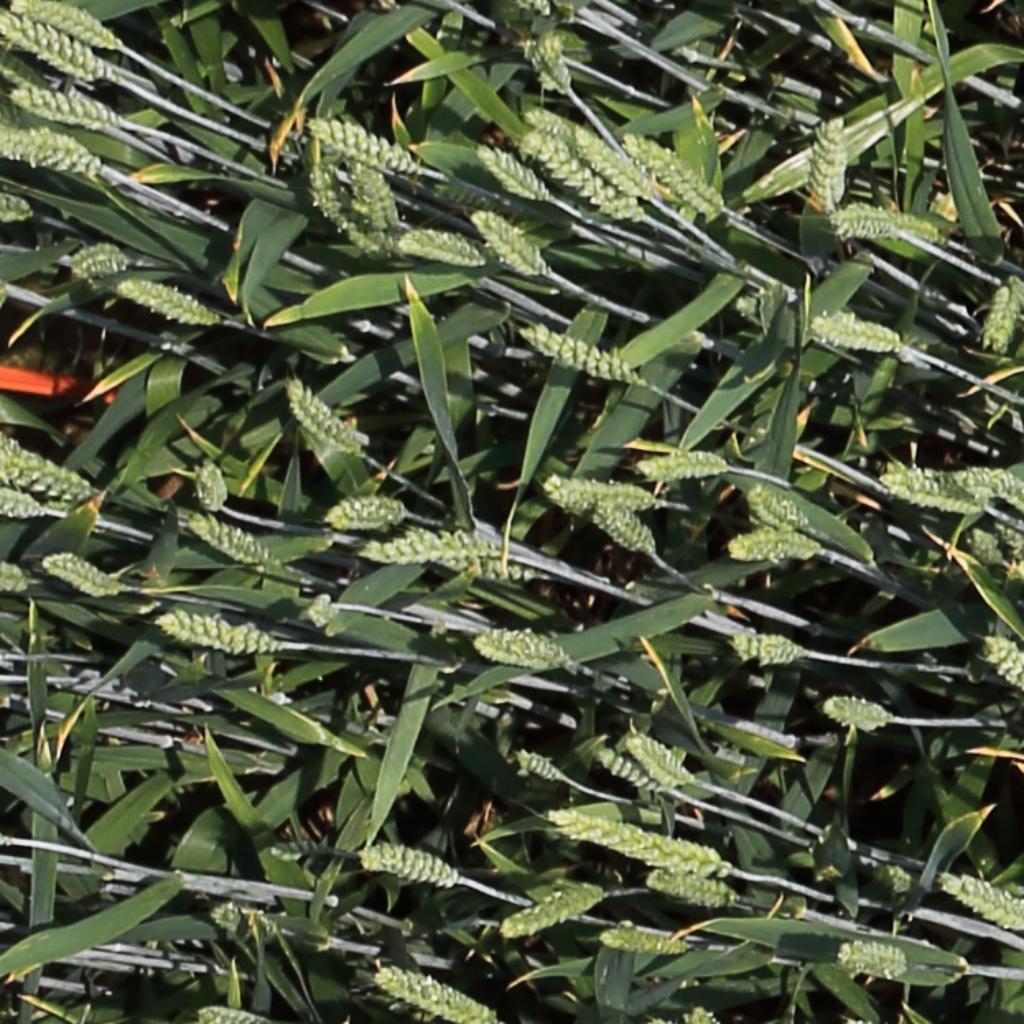0-0: (548, 808, 731, 871), (521, 128, 632, 218), (304, 161, 391, 262), (625, 129, 719, 212), (518, 324, 638, 382), (2, 16, 109, 79), (372, 969, 497, 1022), (304, 116, 417, 172), (281, 378, 360, 457), (570, 122, 651, 195), (158, 605, 273, 652), (468, 207, 546, 275), (498, 886, 602, 936), (360, 529, 510, 563), (15, 0, 123, 47), (1, 442, 88, 499), (111, 277, 217, 323), (185, 516, 277, 569), (6, 84, 122, 126), (880, 469, 985, 513), (937, 876, 1024, 928), (346, 152, 404, 230), (473, 141, 547, 202), (4, 126, 99, 173), (357, 841, 456, 886), (831, 204, 942, 240), (804, 309, 904, 348), (475, 624, 567, 666), (514, 31, 572, 95), (745, 480, 809, 535), (623, 737, 692, 787), (589, 503, 655, 555), (981, 273, 1022, 356), (539, 476, 652, 506), (813, 109, 843, 218), (592, 749, 659, 797), (643, 873, 735, 907), (39, 555, 116, 595), (983, 637, 1024, 711), (957, 472, 1024, 517), (393, 233, 487, 264), (320, 496, 401, 530), (634, 452, 728, 479), (840, 936, 906, 973), (521, 106, 585, 144), (820, 695, 889, 729), (729, 533, 821, 558), (195, 450, 228, 519), (596, 931, 688, 953), (68, 240, 125, 274), (731, 638, 805, 663), (512, 750, 563, 785), (965, 525, 1006, 566), (995, 522, 1024, 578), (193, 1004, 272, 1024), (304, 589, 339, 631), (207, 898, 246, 934), (873, 863, 919, 893), (0, 490, 43, 516), (684, 1002, 711, 1024)
